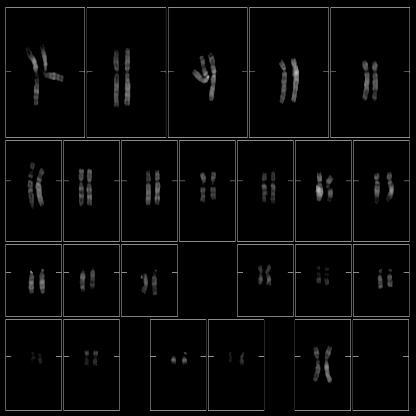1: (20, 41, 40, 113), (38, 36, 65, 83)
10: (269, 168, 278, 207), (260, 168, 268, 207)
11: (314, 169, 326, 203), (324, 169, 336, 203)
12: (385, 167, 396, 209), (373, 167, 382, 209)
13: (25, 264, 37, 300), (36, 264, 48, 300)
14: (86, 264, 98, 295), (77, 264, 88, 295)
15: (138, 267, 150, 298), (149, 268, 161, 298)
16: (253, 260, 265, 290), (264, 260, 275, 290)
17: (314, 259, 324, 289), (323, 259, 332, 289)
18: (376, 263, 386, 294), (386, 263, 396, 294)
19: (37, 342, 45, 370), (28, 342, 36, 368)
2: (123, 41, 134, 116), (110, 42, 121, 116)
20: (82, 344, 90, 369), (91, 345, 99, 370)
21: (170, 346, 178, 370), (180, 346, 188, 370)
22: (236, 346, 248, 374), (225, 346, 236, 373)
3: (190, 52, 210, 95), (207, 49, 217, 103)
4: (288, 54, 300, 106), (278, 54, 288, 106)
5: (360, 54, 371, 106), (370, 54, 381, 106)
6: (27, 158, 37, 210), (36, 158, 46, 210)
7: (76, 163, 86, 209), (85, 162, 93, 208)
8: (142, 164, 152, 210), (152, 166, 162, 210)
9: (198, 167, 208, 206), (208, 167, 217, 206)
X: (310, 340, 324, 387), (322, 340, 335, 386)
